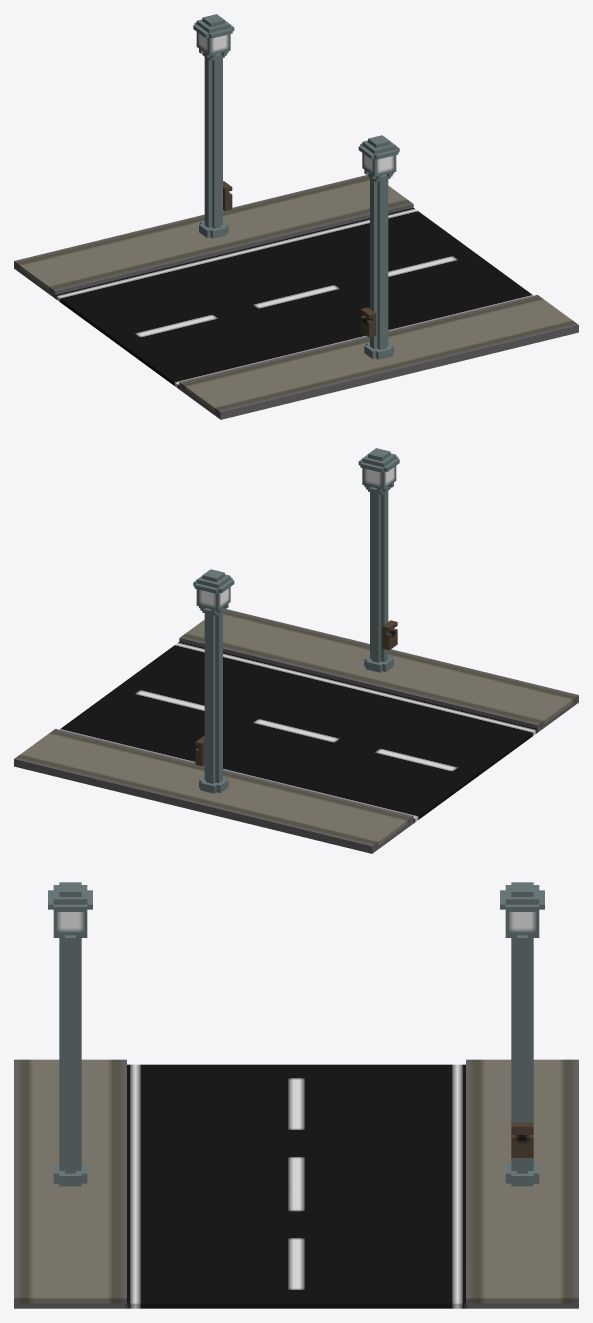
The model's file is Carretera2.fbx.
3 views of the same model, one above another, from view 1: azimuth 30°, elevation 25°; view 2: azimuth 150°, elevation 25°; view 3: azimuth 270°, elevation 25° (orthographic). The views are drawn at different scales.
Visible parts, largest first — view 1: Carretera2; view 2: Carretera2; view 3: Carretera2.
Part boxes in pixels (left/top/right/bottom): Carretera2: left=14, top=14, right=578, bottom=419; Carretera2: left=14, top=448, right=578, bottom=853; Carretera2: left=14, top=882, right=578, bottom=1308.
Bounding box in the file's own units: 100 × 59 × 100.
